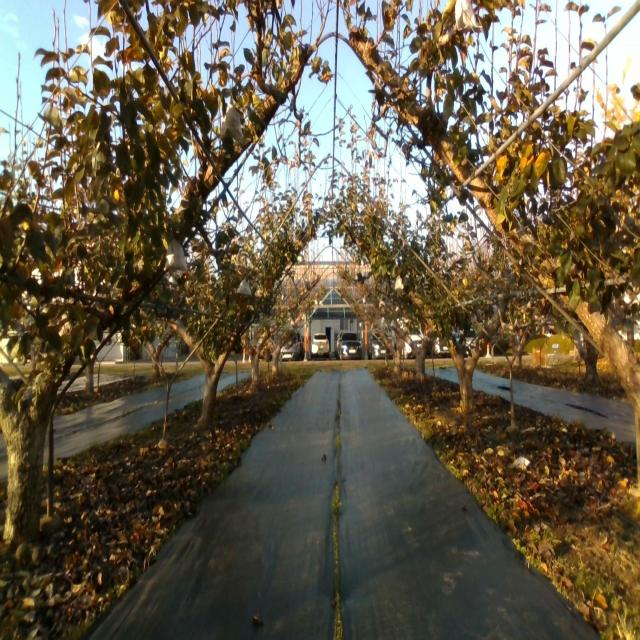pearbags: (220, 102, 243, 142), (454, 0, 482, 30), (164, 238, 188, 273), (236, 278, 251, 296)
